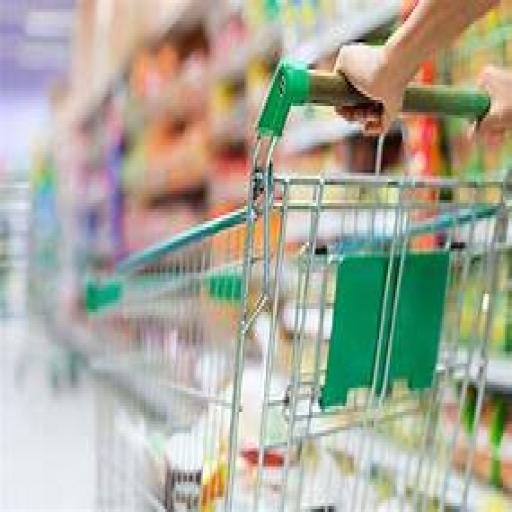shopping_cart: (88, 62, 510, 512)
